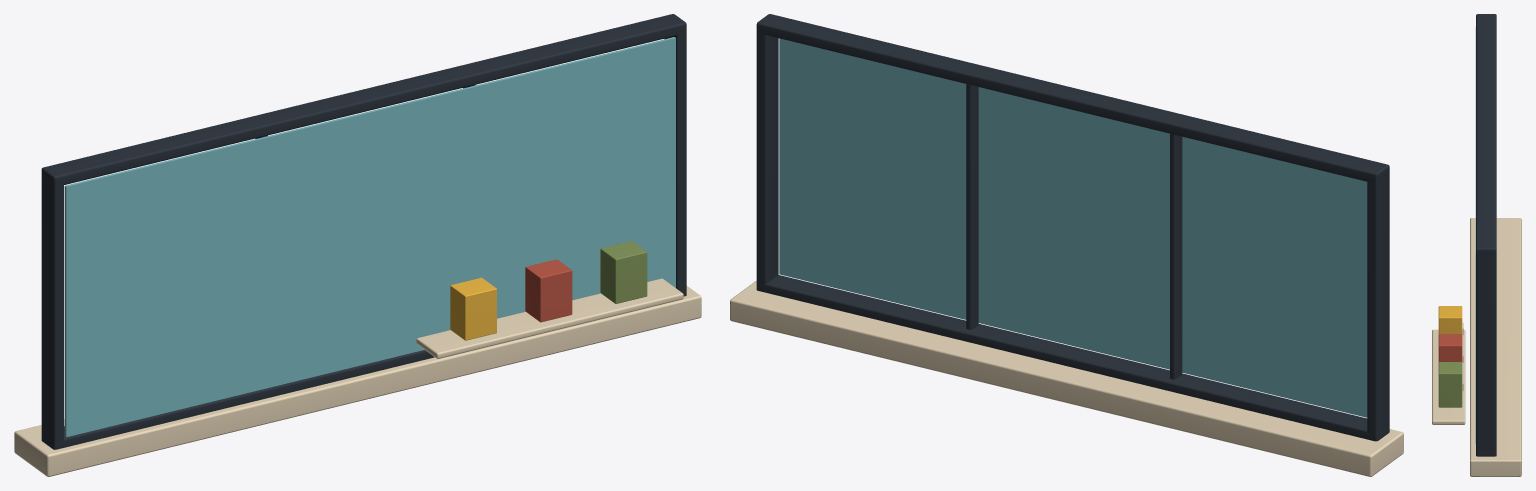
File: display-window.glb
3 renders of one model, left to right at view 1: azimuth 30°, elevation 25°; view 2: azimuth 150°, elevation 25°; view 3: azimuth 270°, elevation 25°, orthographic. The views are drawn at different scales.
Visible parts, largest first — view 1: glass-shop-glass, shell-navy, shell-cream, product-detail-red, product-detail-green, product-detail-yellow; view 2: glass-shop-glass, shell-navy, shell-cream; view 3: shell-cream, shell-navy, product-detail-green, product-detail-red, product-detail-yellow, glass-shop-glass.
Boxes of the visible parts, x1,y1,x2,y2 form: glass-shop-glass: (64, 37, 675, 437); shell-navy: (41, 14, 686, 449); shell-cream: (14, 278, 701, 476); product-detail-red: (525, 259, 572, 322); product-detail-green: (600, 241, 647, 303); product-detail-yellow: (450, 277, 496, 340); glass-shop-glass: (779, 38, 1367, 417); shell-navy: (756, 14, 1389, 441); shell-cream: (730, 281, 1403, 476); shell-cream: (1432, 218, 1521, 476); shell-navy: (1476, 14, 1496, 456); product-detail-green: (1438, 362, 1462, 407); product-detail-red: (1438, 334, 1462, 362); product-detail-yellow: (1438, 306, 1462, 334); glass-shop-glass: (1475, 27, 1475, 443).
Bounding box in the file's own units: 6.1 × 2.63 × 0.95.
